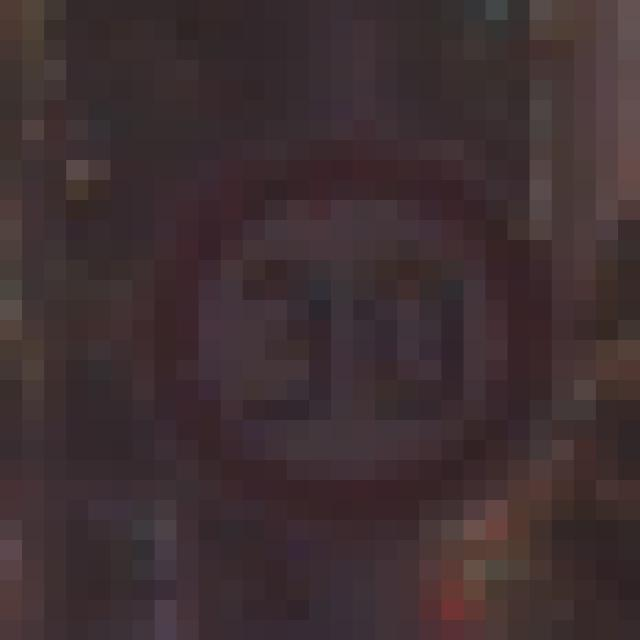Speed Limit -30-: (99, 90, 519, 510)
